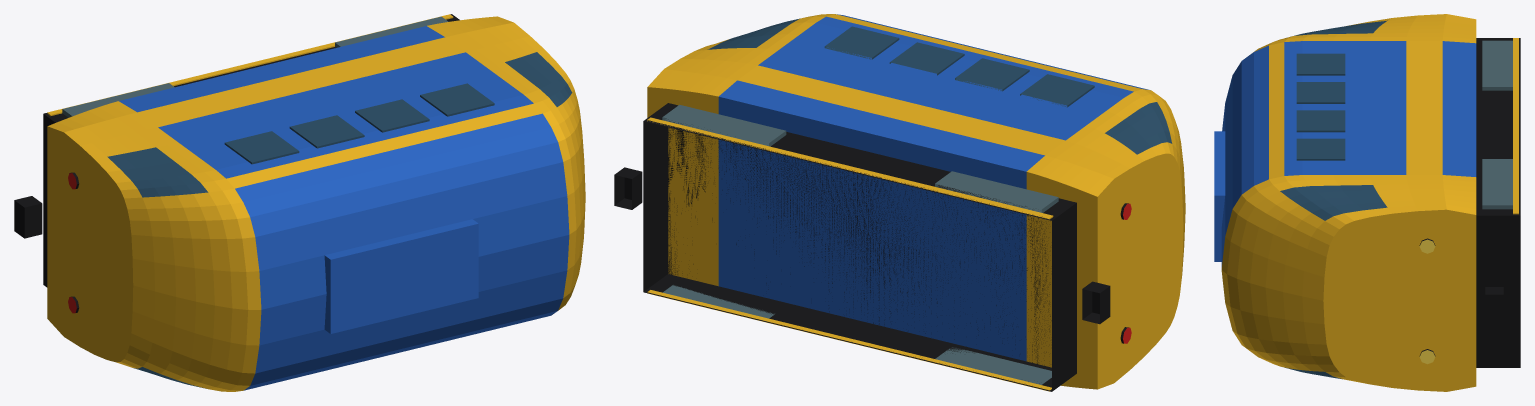
3 renders of one model, left to right at view 1: azimuth 30°, elevation 25°; view 2: azimuth 150°, elevation 25°; view 3: azimuth 270°, elevation 25°, orthographic. The views are drawn at different scales.
Parts seen in each view (by area): view 1: default_body, default_roof_pod, default_side1_-0.95_3.60_glass_dark, default_side1_-2.05_3.60_glass_dark, default_side1_0.15_3.60_glass_dark, default_side1_1.25_3.60_glass_dark, default_skirt, default_side1_-3.40_0.75_hazard_yellow, default_coupler-1, default_pod-11, default_pod11; view 2: default_body, default_skirt, default_pod11, default_pod-11, default_side1_-3.40_0.75_hazard_yellow, default_side-1_-3.40_0.75_hazard_yellow, default_pod-1-1, default_side1_1.25_3.60_glass_dark, default_side1_-0.95_3.60_glass_dark, default_side1_-2.05_3.60_glass_dark, default_side1_0.15_3.60_glass_dark, default_coupler-1 (+2 smaller); view 3: default_body, default_skirt, default_pod11, default_pod-11, default_roof_pod, default_side1_0.15_3.60_glass_dark, default_side1_1.25_3.60_glass_dark, default_side1_-2.05_3.60_glass_dark, default_side1_-0.95_3.60_glass_dark, default_side1_-3.40_0.75_hazard_yellow, default_coupler1.
Boxes of the visible parts, x1,y1,x2,y2 form: default_body: [47, 16, 585, 391]; default_roof_pod: [324, 219, 478, 333]; default_side1_-0.95_3.60_glass_dark: [289, 115, 364, 148]; default_side1_-2.05_3.60_glass_dark: [224, 131, 299, 164]; default_side1_0.15_3.60_glass_dark: [355, 99, 429, 132]; default_side1_1.25_3.60_glass_dark: [420, 83, 494, 116]; default_skirt: [43, 14, 459, 287]; default_side1_-3.40_0.75_hazard_yellow: [47, 14, 453, 115]; default_coupler-1: [14, 196, 42, 238]; default_pod-11: [62, 83, 174, 117]; default_pod11: [335, 16, 448, 47]; default_body: [647, 14, 1185, 389]; default_skirt: [643, 103, 1076, 391]; default_pod11: [662, 104, 786, 146]; default_pod-11: [935, 171, 1058, 212]; default_side1_-3.40_0.75_hazard_yellow: [647, 117, 1053, 219]; default_side-1_-3.40_0.75_hazard_yellow: [647, 290, 1051, 391]; default_pod-1-1: [935, 347, 1051, 384]; default_side1_1.25_3.60_glass_dark: [824, 26, 899, 59]; default_side1_-0.95_3.60_glass_dark: [955, 58, 1029, 91]; default_side1_-2.05_3.60_glass_dark: [1020, 74, 1094, 107]; default_side1_0.15_3.60_glass_dark: [889, 42, 964, 75]; default_coupler-1: [1082, 281, 1110, 324]; default_body: [1221, 14, 1476, 391]; default_skirt: [1476, 38, 1520, 367]; default_pod11: [1482, 159, 1512, 209]; default_pod-11: [1482, 40, 1512, 90]; default_roof_pod: [1214, 131, 1225, 261]; default_side1_0.15_3.60_glass_dark: [1296, 110, 1345, 132]; default_side1_1.25_3.60_glass_dark: [1296, 138, 1345, 160]; default_side1_-2.05_3.60_glass_dark: [1296, 53, 1345, 75]; default_side1_-0.95_3.60_glass_dark: [1296, 82, 1345, 103]; default_side1_-3.40_0.75_hazard_yellow: [1513, 38, 1518, 214]; default_coupler1: [1485, 287, 1503, 322].
Size of the model in its own units: 8.2 by 3.5 by 5.03.
